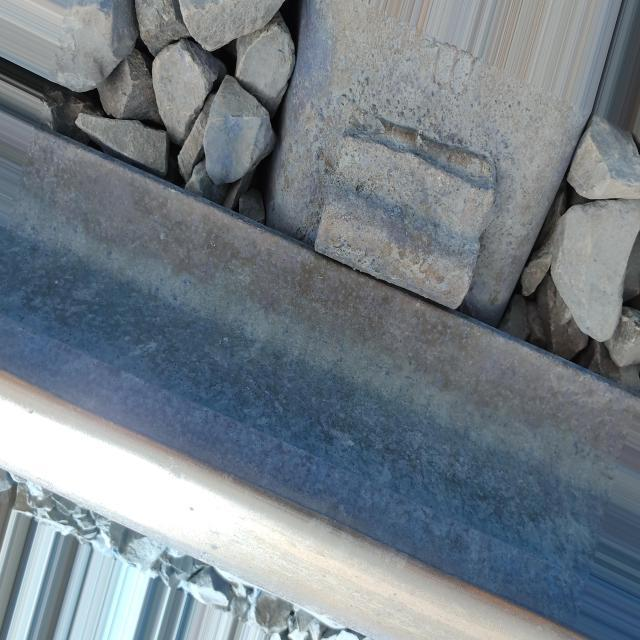Missing Fastener: (265, 0, 587, 326)
